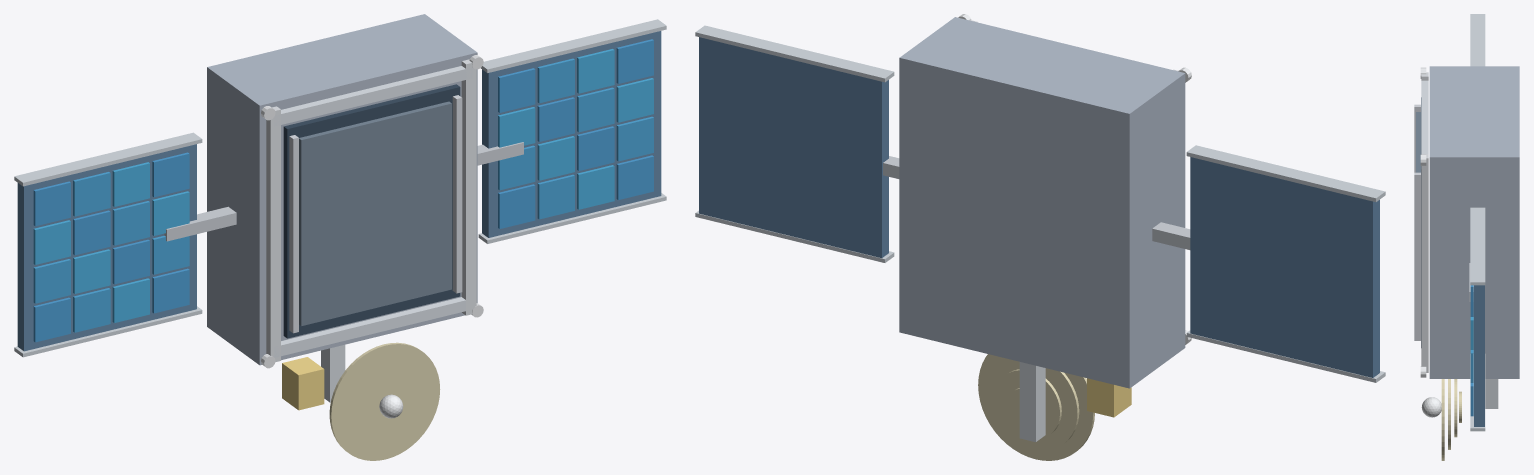
File: sat_002_bus.glb
3 views of the same model, side by side, from view 1: azimuth 30°, elevation 25°; view 2: azimuth 150°, elevation 25°; view 3: azimuth 270°, elevation 25° (orthographic). The views are drawn at different scales.
Parts seen in each view (by area): view 1: Bus structural core, Service bay tray, Dish ring 0.34, Solar wing surround -1, Solar wing surround 1, Service bay depression, Structural side rail 0.61, Structural side rail -0.61, Structural upper-lower rail 0.69, Structural upper-lower rail -0.69, Wing frame -1 y0.51, Wing frame 1 y0.51 (+40 smaller); view 2: Bus structural core, Solar wing surround -1, Solar wing surround 1, Dish ring 0.27, Wing frame 1 y0.51, Wing frame -1 y0.51, Dish ring 0.34, Antenna mast, Dish ring 0.19, RF feed, Wing frame -1 y-0.51, Wing frame 1 y-0.51 (+1 smaller); view 3: Bus structural core, Structural side rail 0.61, Solar wing surround 1, Wing frame 1 y0.51, Bay guide rail 0.51, Wing frame -1 y0.51, Structural upper-lower rail 0.69, Antenna mast, Dish receiver, Dish ring 0.34, Wing frame 1 y-0.51, Service bay tray (+8 smaller).
Part boxes in pixels (bbox=[...]): Bus structural core: bbox=[207, 14, 477, 365]; Service bay tray: bbox=[299, 101, 451, 325]; Dish ring 0.34: bbox=[329, 342, 440, 460]; Solar wing surround -1: bbox=[17, 144, 196, 351]; Solar wing surround 1: bbox=[482, 31, 661, 237]; Service bay depression: bbox=[283, 84, 460, 338]; Structural side rail 0.61: bbox=[461, 59, 476, 315]; Structural side rail -0.61: bbox=[266, 106, 280, 362]; Structural upper-lower rail 0.69: bbox=[274, 66, 472, 126]; Structural upper-lower rail -0.69: bbox=[274, 297, 465, 357]; Wing frame -1 y0.51: bbox=[14, 132, 202, 186]; Wing frame 1 y0.51: bbox=[481, 19, 666, 72]; Bus structural core: bbox=[899, 17, 1185, 388]; Solar wing surround -1: bbox=[1190, 157, 1379, 377]; Solar wing surround 1: bbox=[699, 37, 888, 257]; Dish ring 0.27: bbox=[986, 357, 1079, 450]; Wing frame 1 y0.51: bbox=[695, 25, 894, 82]; Wing frame -1 y0.51: bbox=[1186, 145, 1385, 201]; Dish ring 0.34: bbox=[978, 354, 1094, 460]; Antenna mast: bbox=[1019, 362, 1045, 442]; Dish ring 0.19: bbox=[995, 369, 1061, 438]; RF feed: bbox=[1087, 378, 1131, 417]; Wing frame -1 y-0.51: bbox=[1186, 330, 1385, 382]; Wing frame 1 y-0.51: bbox=[695, 210, 894, 262]; Bus structural core: bbox=[1429, 66, 1519, 378]; Structural side rail 0.61: bbox=[1421, 154, 1428, 372]; Solar wing surround 1: bbox=[1474, 285, 1484, 426]; Wing frame 1 y0.51: bbox=[1470, 207, 1485, 285]; Bay guide rail 0.51: bbox=[1414, 172, 1420, 340]; Wing frame -1 y0.51: bbox=[1470, 14, 1485, 66]; Structural upper-lower rail 0.69: bbox=[1421, 80, 1428, 153]; Antenna mast: bbox=[1485, 379, 1498, 408]; Dish receiver: bbox=[1421, 397, 1441, 417]; Dish ring 0.34: bbox=[1441, 379, 1444, 460]; Wing frame 1 y-0.51: bbox=[1470, 354, 1485, 431]; Service bay tray: bbox=[1416, 112, 1420, 172].
Size of the model in its own units: 4.02 by 2.34 by 0.6675.
